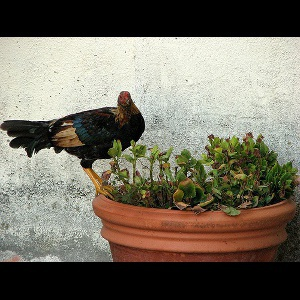flowerpot: (92, 180, 296, 262)
